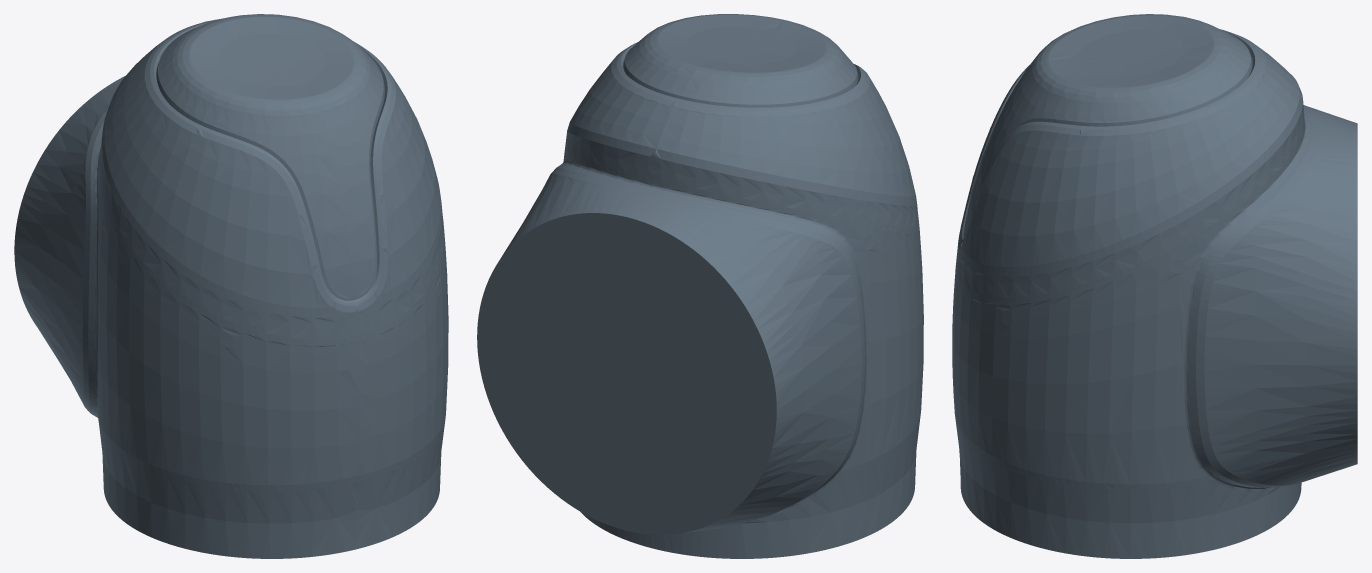
3 renders of one model, left to right at view 1: azimuth 30°, elevation 25°; view 2: azimuth 150°, elevation 25°; view 3: azimuth 270°, elevation 25°, orthographic. The views are drawn at different scales.
Visible parts, largest first — view 1: MF1013_1_0; view 2: MF1013_1_0; view 3: MF1013_1_0.
Boxes of the visible parts, x1,y1,x2,y2 form: MF1013_1_0: (14,14,448,558); MF1013_1_0: (477,14,923,558); MF1013_1_0: (952,14,1357,558).
Size of the model in its own units: 162 by 182 by 220.
